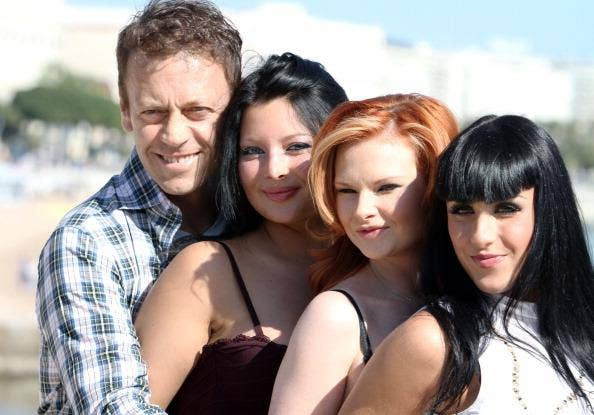bad: (127, 80, 235, 187), (225, 126, 315, 216), (325, 156, 414, 245)
